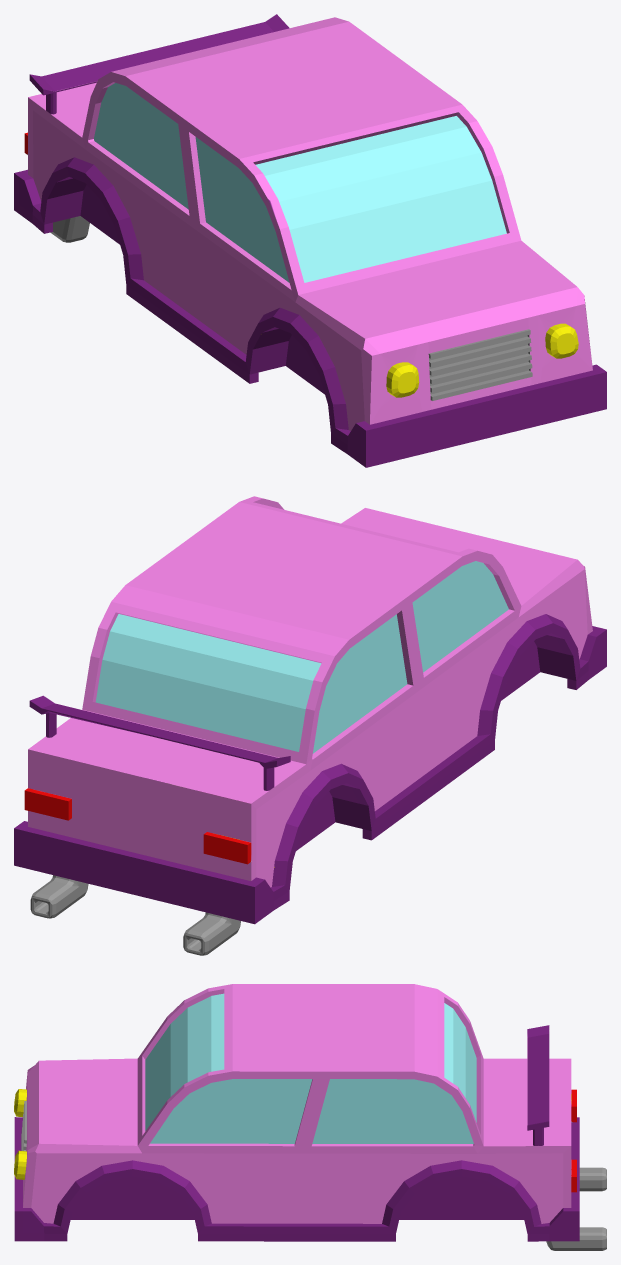
The model's file is car.gltf.
3 views of the same model, one above another, from view 1: azimuth 30°, elevation 25°; view 2: azimuth 150°, elevation 25°; view 3: azimuth 270°, elevation 25° (orthographic). The views are drawn at different scales.
Visible parts, largest first — view 1: Car; view 2: Car; view 3: Car.
Boxes of the visible parts, <box> form: Car: <box>14,14,606,467</box>; Car: <box>14,496,606,955</box>; Car: <box>14,984,606,1250</box>.
Size of the model in its own units: 4.18 by 3.83 by 10.81.
1 material, 1 textured.
